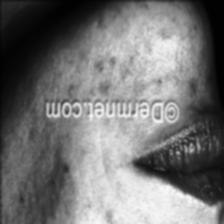Non-Cancerous Skin Condition: (80, 9, 167, 82), (36, 142, 100, 210), (176, 12, 213, 86), (119, 188, 178, 224)
